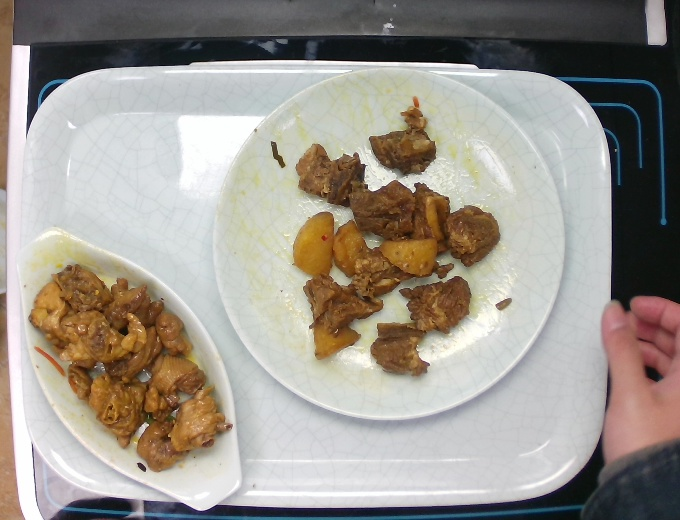JYsf-Da_Yuan_Pan: (210, 67, 574, 435)
JYsf-Yu_Pan: (11, 227, 257, 520)
